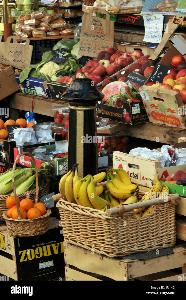banana: (55, 163, 165, 223)
corn: (0, 156, 42, 198)
orange: (0, 186, 52, 236)
peach: (61, 45, 151, 91), (140, 47, 186, 115)
